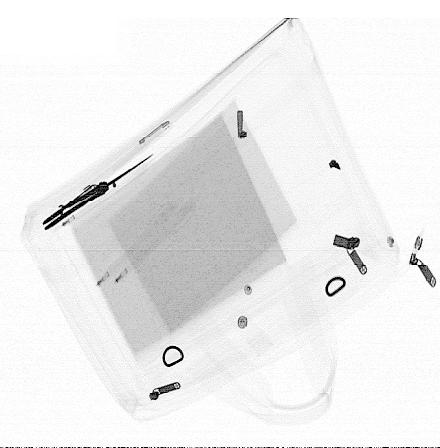Knife: (42, 151, 158, 232)
